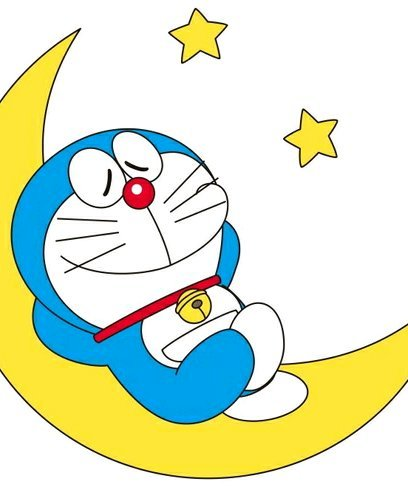Doraemon: (5, 111, 326, 429)
